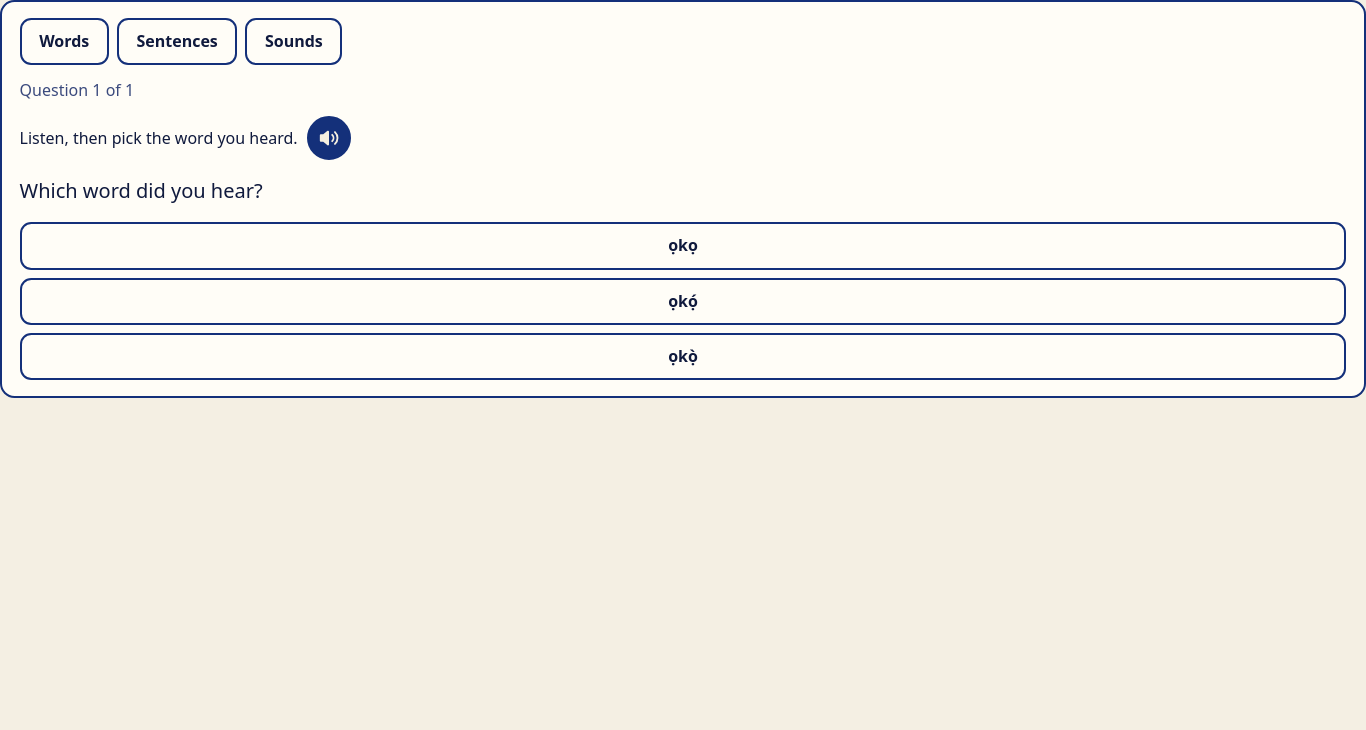
Test case: TonePractice › fills the gap with the correct word after answering in Sentences mode
The image size is (1366, 730).
What coordinates should you click on to do the following:
click the button "Sentences"
I would click on:
 (177, 42)
Its box is [117,18,237,65].
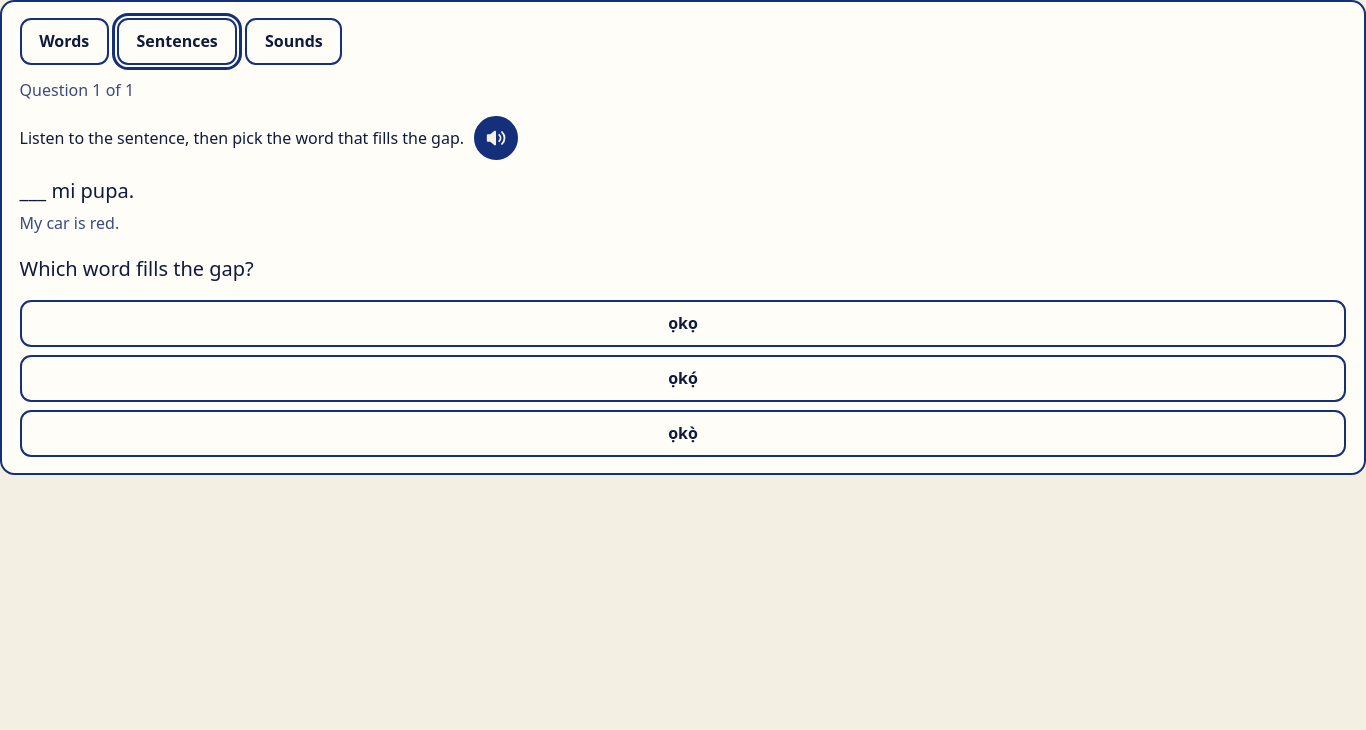
What coordinates should you click on to do the following:
click the button with test id "choice" showing "ọkọ"
I would click on:
 (683, 323)
Its box is [20,300,1346,347].
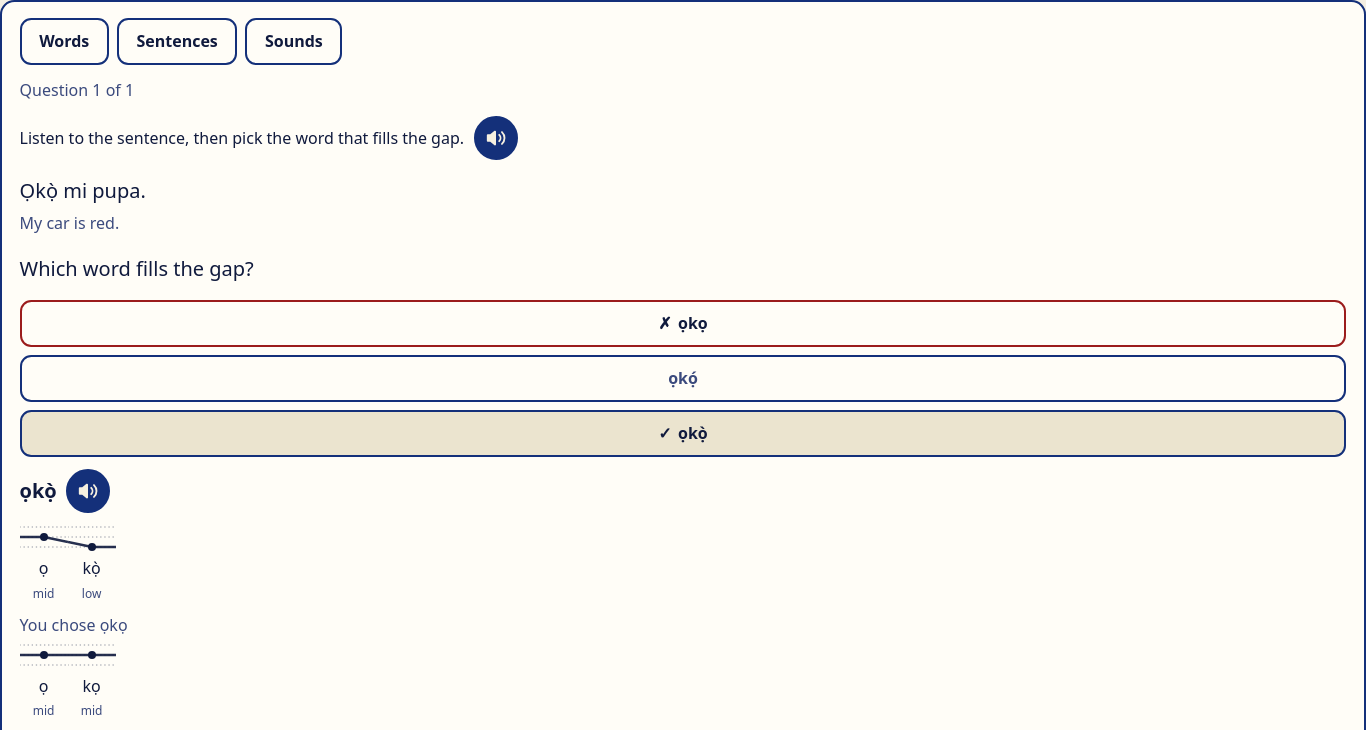
Expected: the text with test id "practice" no longer shows "___"
Expected: the text "Ọkọ̀ mi pupa." is shown, [20,177,146,204]
